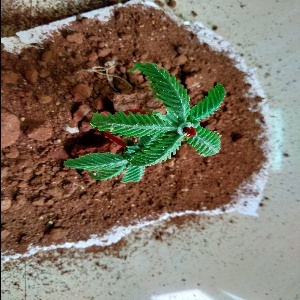plant: (74, 81, 219, 183)
